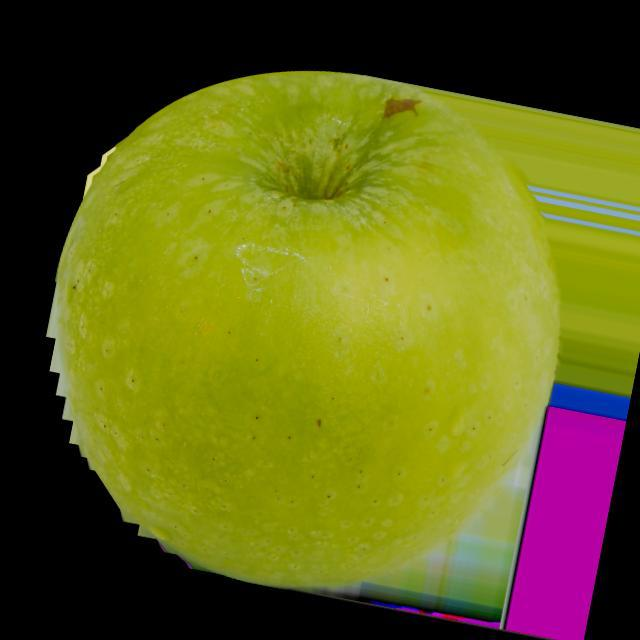Green Apple: (47, 69, 563, 593)
